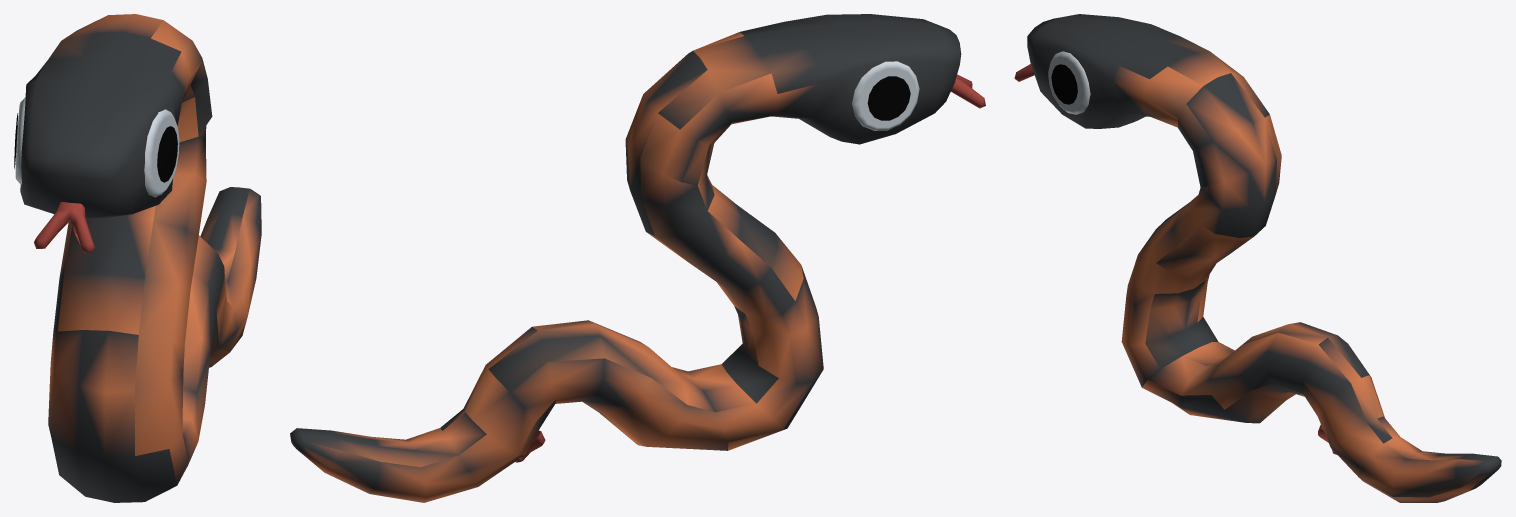
Rendered from Snake.glb.
The picture shows the model from 3 angles, left to right: view 1: azimuth 30°, elevation 25°; view 2: azimuth 150°, elevation 25°; view 3: azimuth 270°, elevation 25°; orthographic projection. The views are drawn at different scales.
Parts seen in each view (by area): view 1: 154; view 2: 154; view 3: 154.
Part boxes in pixels (<box>): 154: <box>14,14,261,502</box>; 154: <box>290,14,985,502</box>; 154: <box>1014,14,1501,502</box>.
Bounding box in the file's own units: 0.8744 × 0.7804 × 0.9607.
